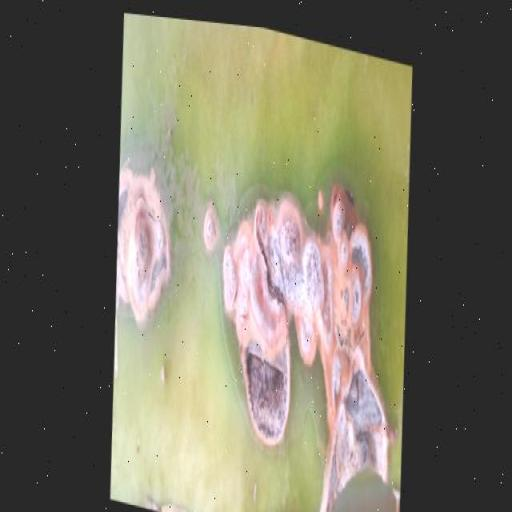stemcanker: (157, 355, 171, 387), (314, 186, 328, 216), (131, 433, 146, 458)
